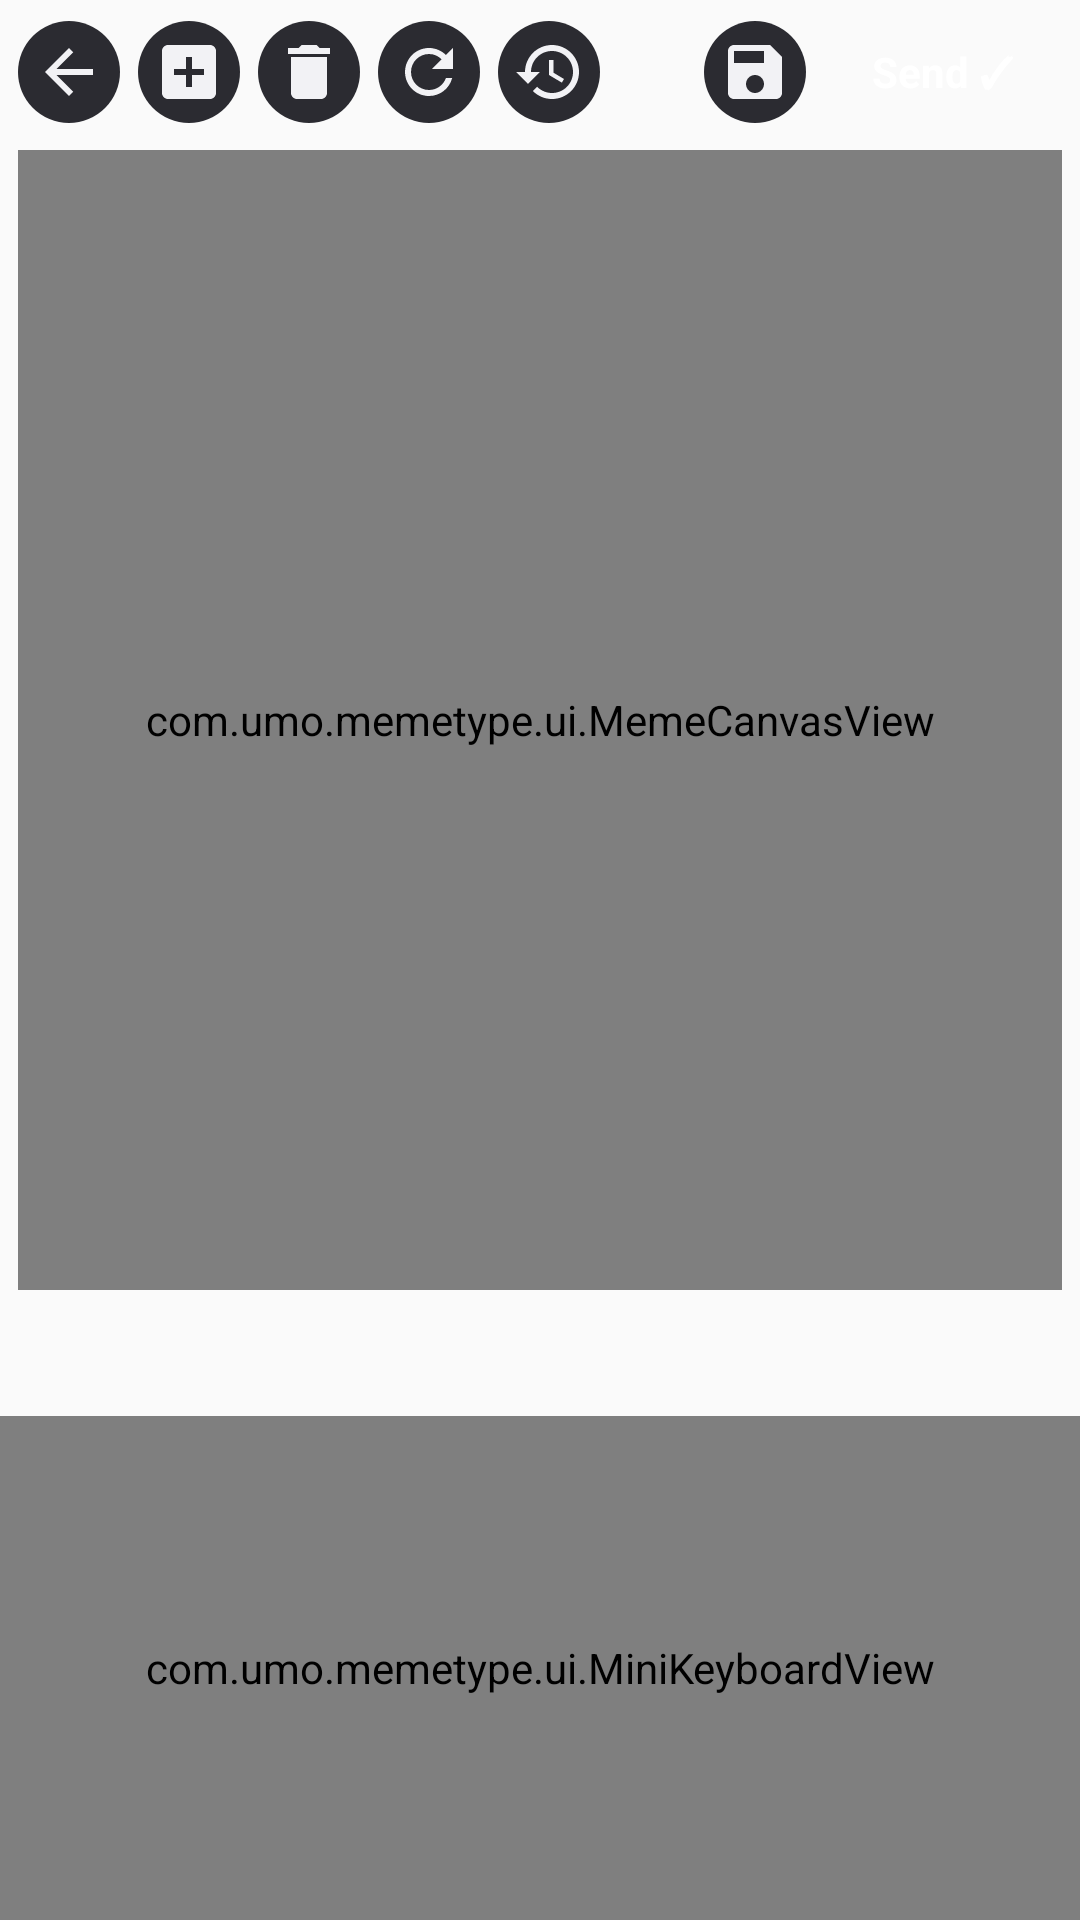

Named icons in this screenshot (1080 x 1920) and their centers, (x=x, y=y):
Add text box: (x=189, y=72)
Back: (x=69, y=72)
Delete text box: (x=309, y=72)
History: (x=549, y=72)
Reset layout: (x=429, y=72)
Save: (x=755, y=72)
